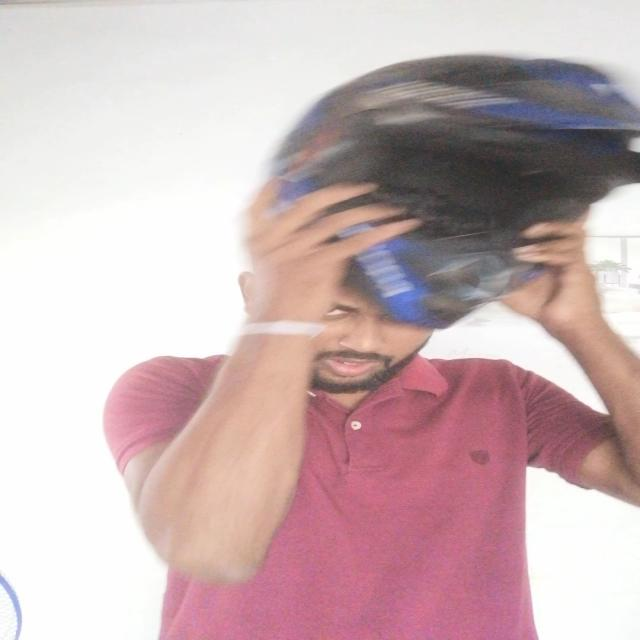Helmet_Wearer: (226, 44, 640, 433)
